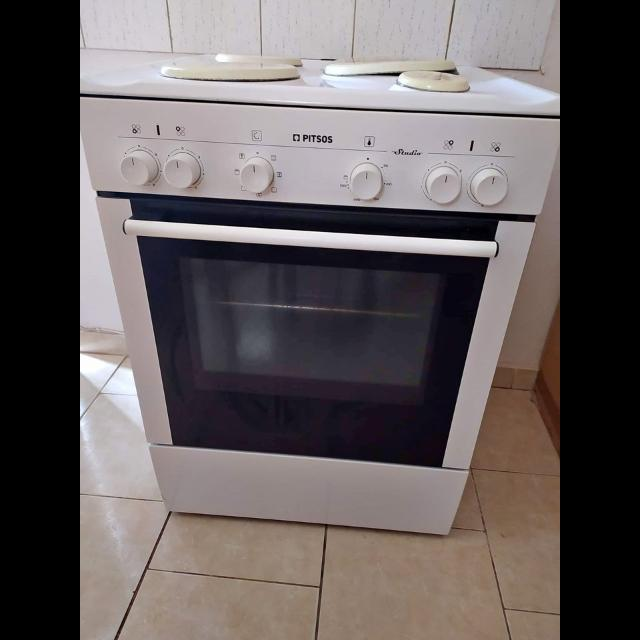Oven: (80, 95, 546, 471)
